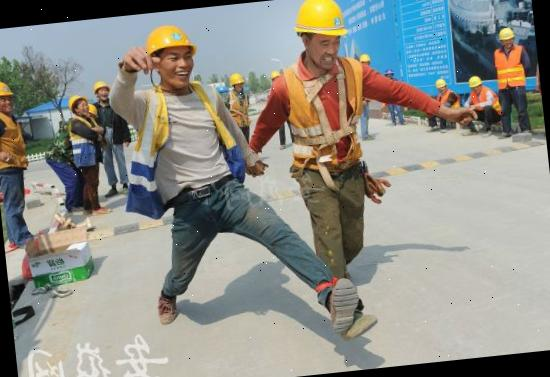helmet: (288, 0, 350, 40), (138, 20, 198, 58), (0, 77, 14, 101), (495, 25, 515, 41), (228, 70, 248, 86), (90, 76, 112, 90), (466, 72, 484, 88), (433, 76, 448, 88)
no_wear: (138, 76, 240, 194)
wear: (276, 52, 375, 170), (0, 108, 25, 174), (68, 112, 98, 166), (491, 46, 526, 92), (470, 86, 496, 106), (437, 88, 460, 108)
